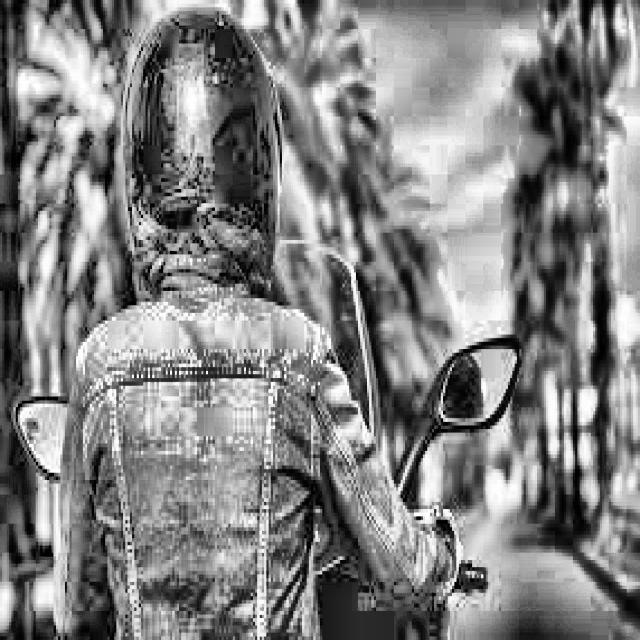Helmet: (124, 4, 289, 324)
